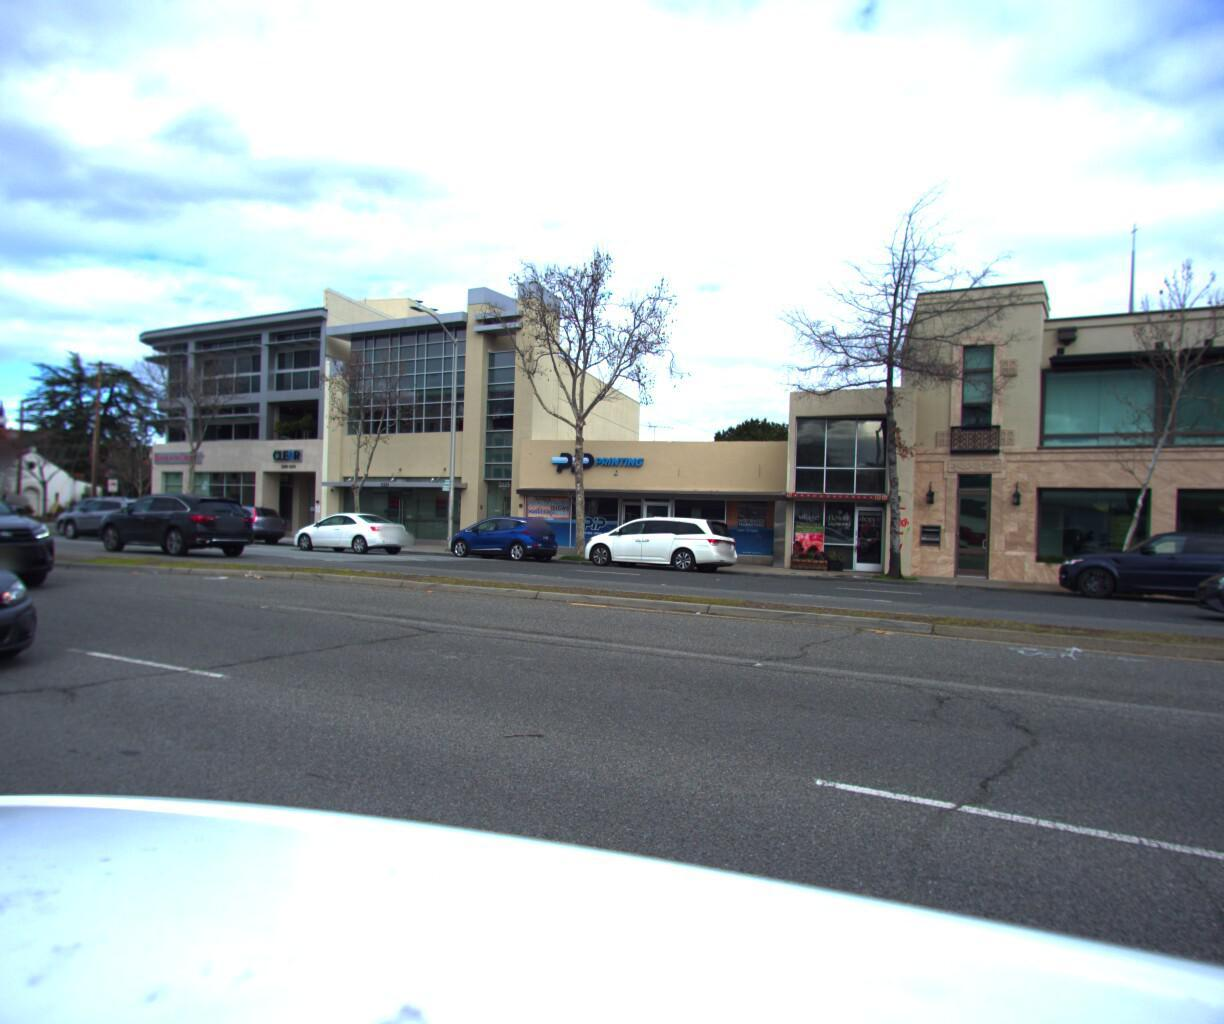car: (0, 471, 91, 712), (1045, 520, 1224, 614), (80, 489, 266, 558), (564, 506, 748, 571), (0, 468, 86, 597), (432, 507, 565, 561), (52, 488, 175, 540), (284, 506, 420, 552), (178, 496, 295, 542), (40, 491, 154, 535), (1197, 528, 1224, 645)
